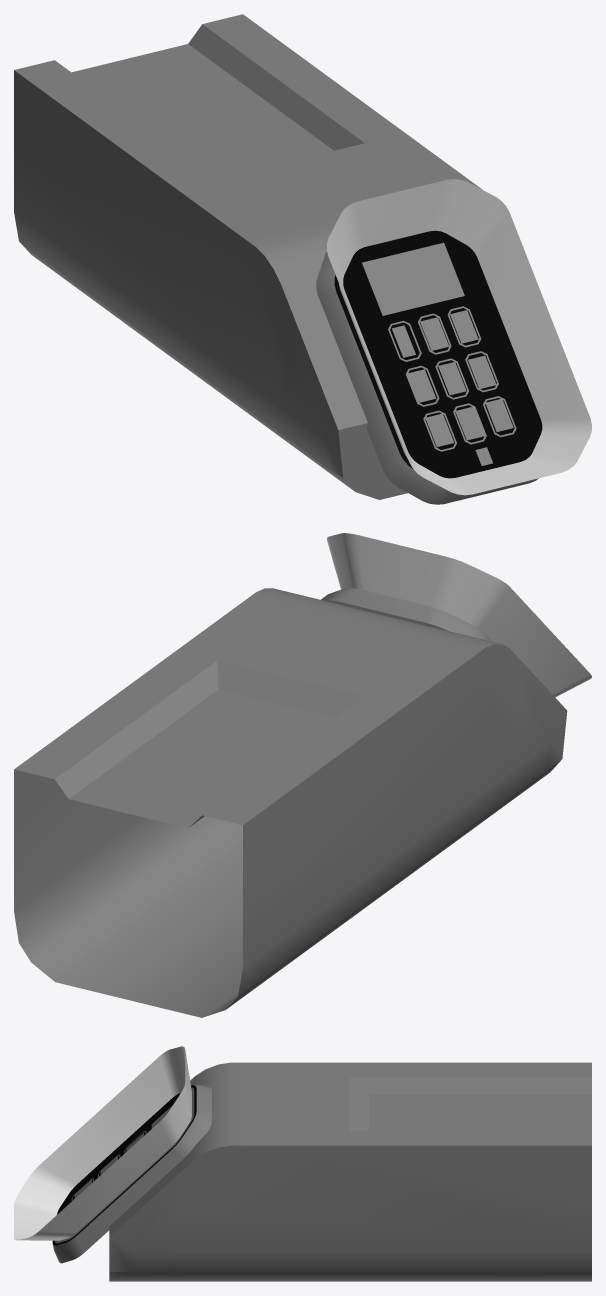
The model's file is q-scifi-mod-prop-accesspoint.glb.
The picture shows the model from 3 angles, top to bottom: view 1: azimuth 30°, elevation 25°; view 2: azimuth 150°, elevation 25°; view 3: azimuth 270°, elevation 25°; orthographic projection. The views are drawn at different scales.
Parts seen in each view (by area): view 1: Prop_AccessPoint; view 2: Prop_AccessPoint; view 3: Prop_AccessPoint.
Part boxes in pixels (bbox=[...]): Prop_AccessPoint: bbox=[14, 14, 591, 504]; Prop_AccessPoint: bbox=[14, 533, 591, 1017]; Prop_AccessPoint: bbox=[14, 1046, 591, 1281].
Bounding box in the file's own units: 0.4412 × 0.4679 × 1.3.
Materials: 4 (2 with a texture image).
